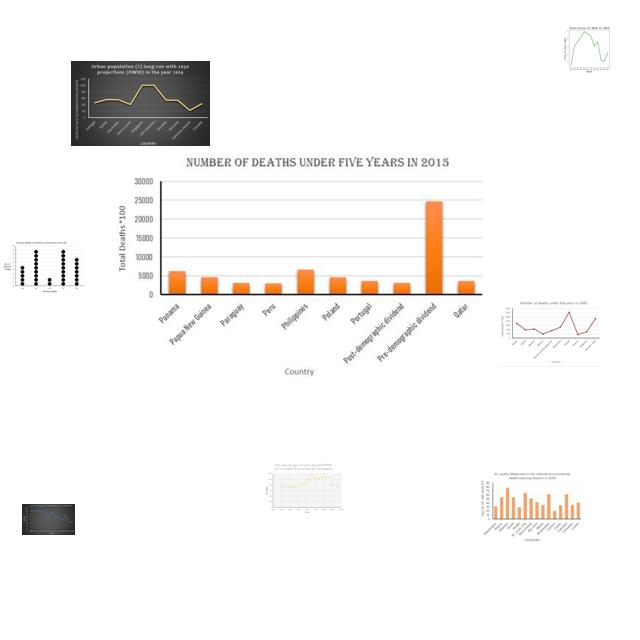Graph: (111, 147, 491, 389), (71, 61, 210, 146), (479, 470, 583, 544), (498, 299, 602, 367), (1, 240, 85, 295), (264, 463, 344, 515), (553, 24, 624, 73), (22, 504, 75, 535)
